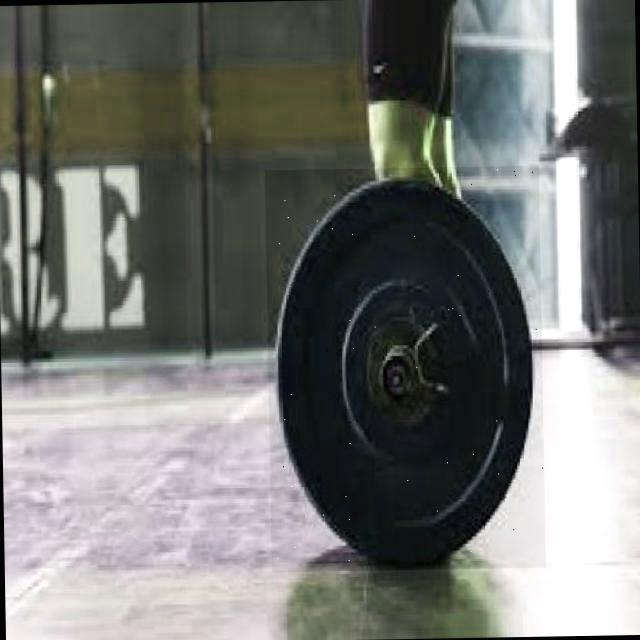barbell: (266, 166, 547, 572)
